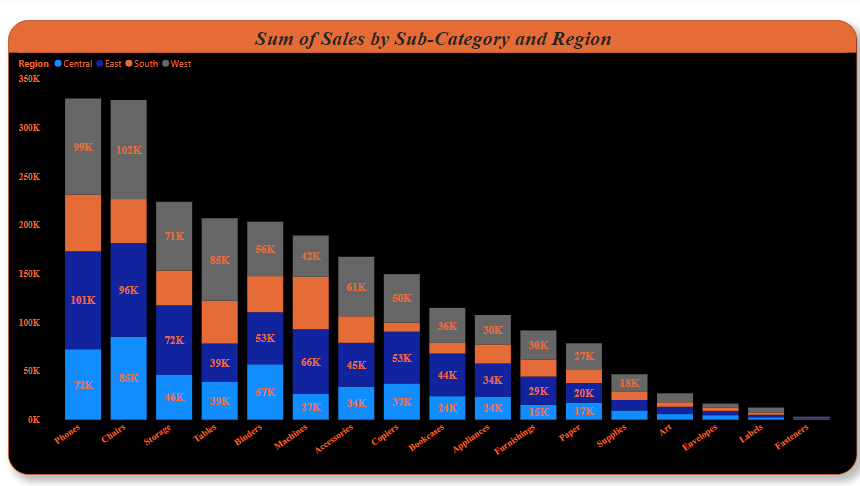

What the dashboard file says about the page in this screenshot:
{"tool":"powerbi","page":{"name":"Sub-category and region wise sales","canvas":[1280,720],"ordinal":1},"visuals":[{"type":"columnChart","fields":{"Y":["Sum(Orders.Sales)"],"Category":["Orders.Sub-Category"],"Series":["Orders.Region"]},"box":[28.9,32.6,1222.9,654.9],"z":0}]}

Visuals, with their boxes in screenshot pixels (x1, y1, x2, y2), scaled from the page's 1280x720 canvas onto the 860x486 screenshot:
columnChart - Sum(Orders.Sales) x Orders.Sub-Category: l=19, t=22, r=841, b=464
